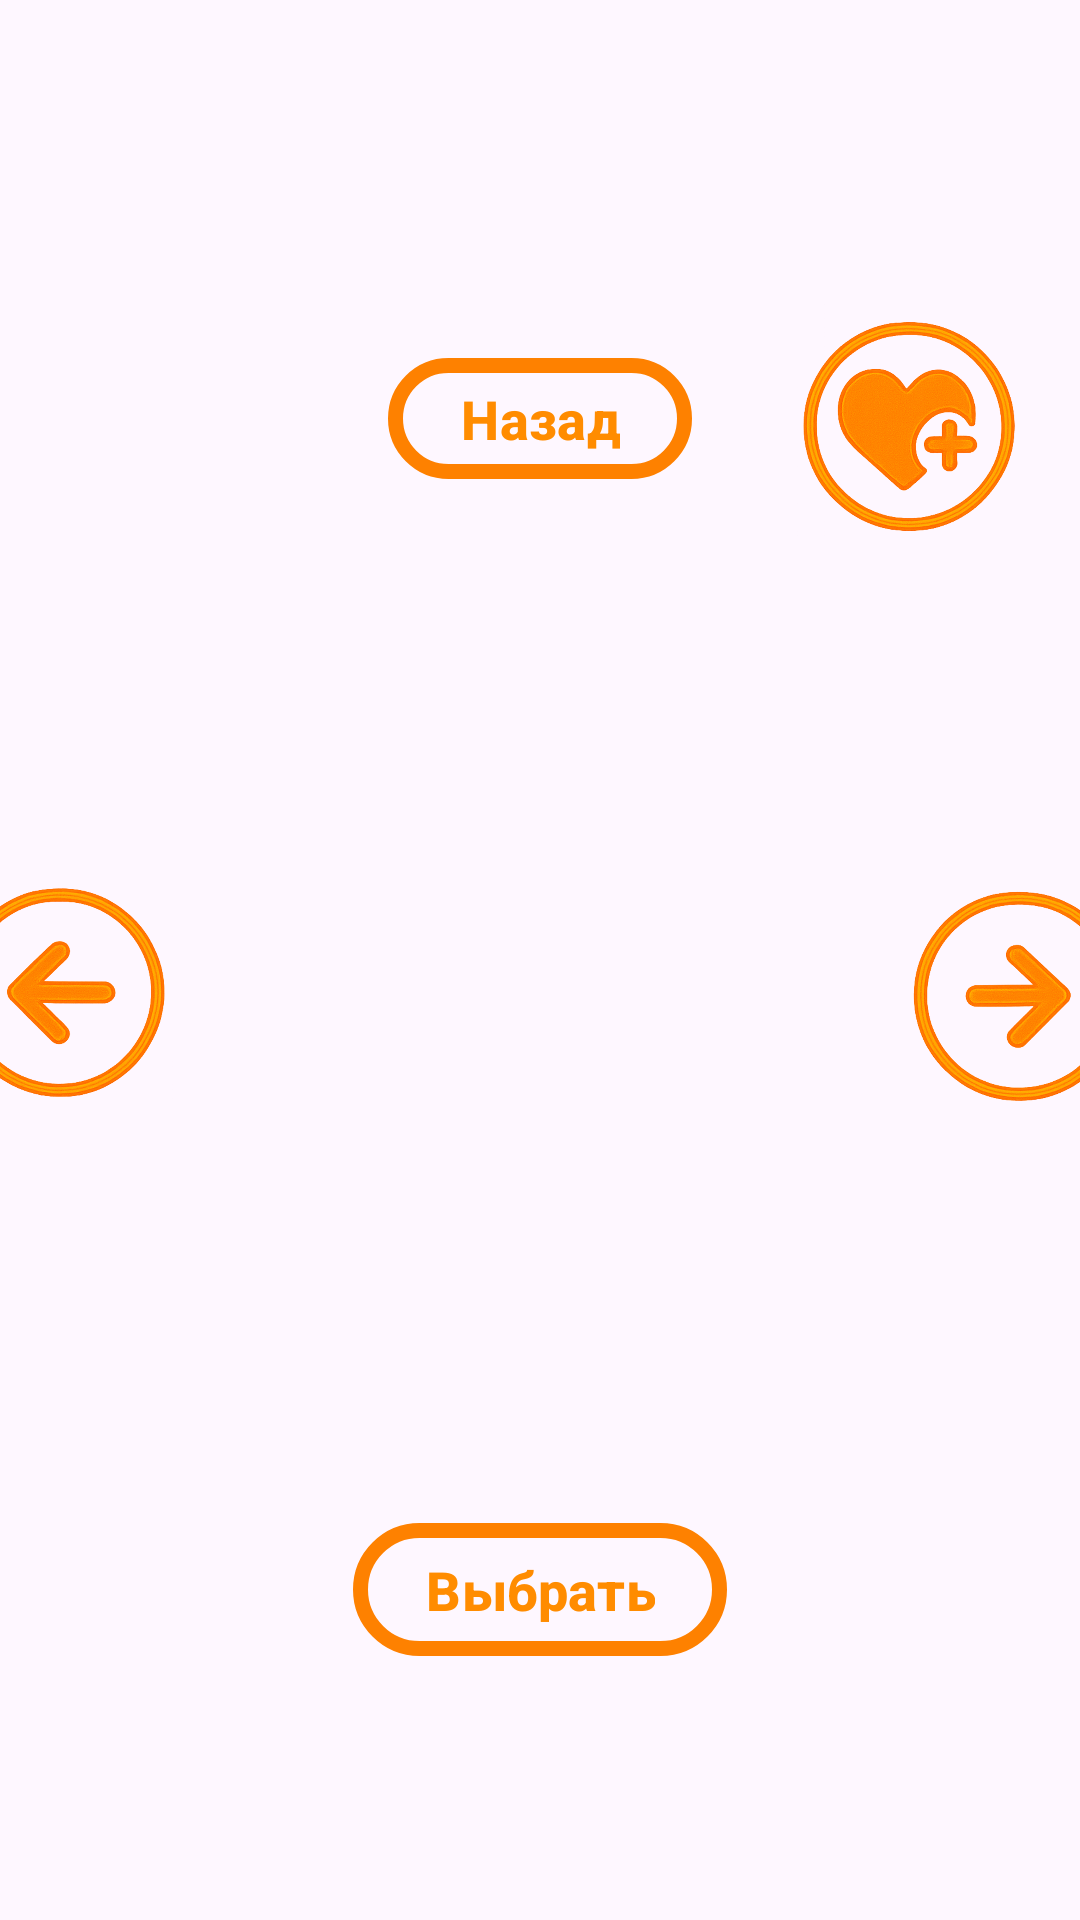

Locate icon controls on the screen. Image size 1080w x 1920h, boxes as Rect(x1, y1, x2, y2).
Вылечить питомца: Rect(803, 322, 1015, 531)
